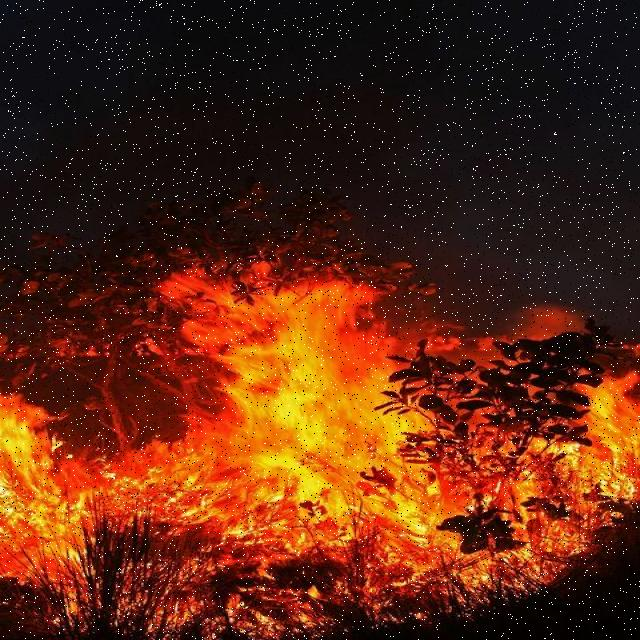fire: (180, 260, 420, 548), (0, 384, 89, 586), (588, 362, 640, 540), (96, 426, 183, 520)
